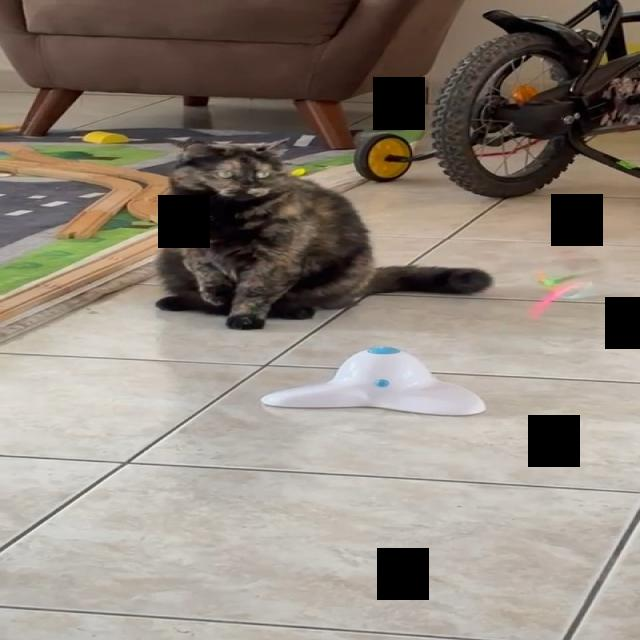authorized: (152, 136, 492, 330)
